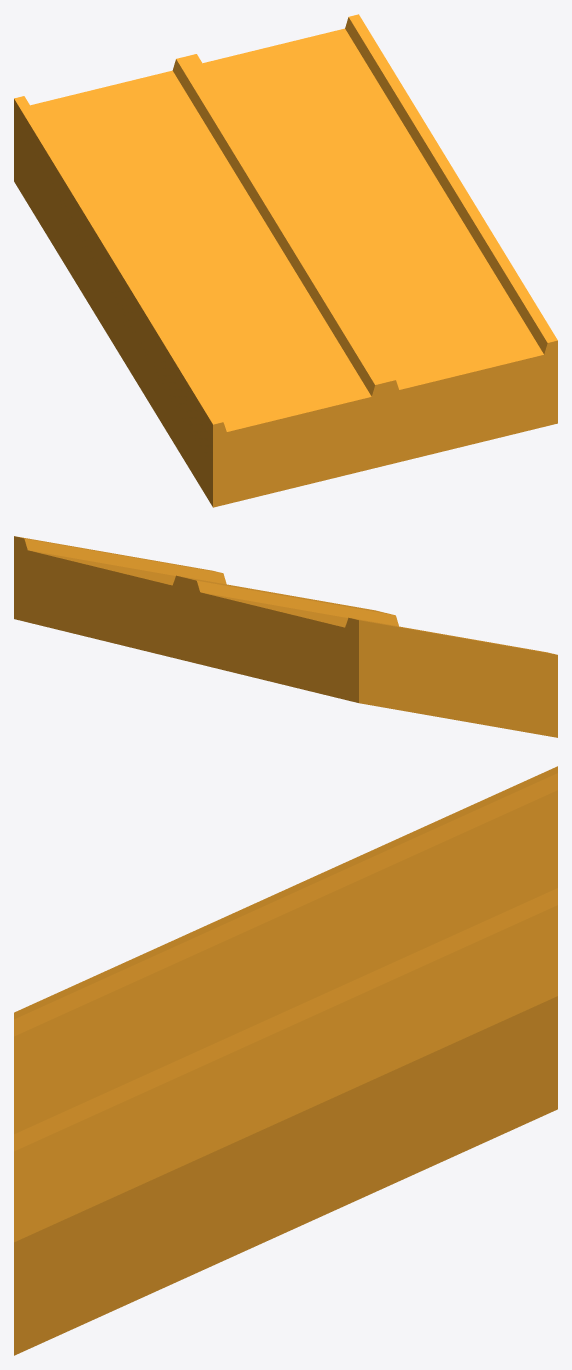
The model's file is SM_Roof_Metal_Moderate_1x1m.fbx.
3 renders of one model, top to bottom at view 1: azimuth 30°, elevation 25°; view 2: azimuth 150°, elevation 25°; view 3: azimuth 270°, elevation 25°, orthographic. The views are drawn at different scales.
Visible parts, largest first — view 1: roof-metal-moderate-1x1m; view 2: roof-metal-moderate-1x1m; view 3: roof-metal-moderate-1x1m.
Part boxes in pixels (x1,y1,x2,y2): roof-metal-moderate-1x1m: (14, 14, 557, 507); roof-metal-moderate-1x1m: (14, 536, 557, 737); roof-metal-moderate-1x1m: (14, 766, 557, 1355).
Bounding box in the file's own units: 1 × 0.7301 × 1.
